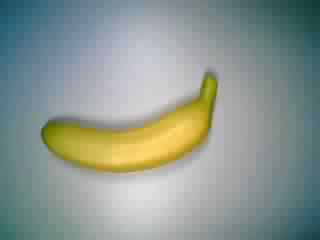banana: (34, 67, 221, 173)
